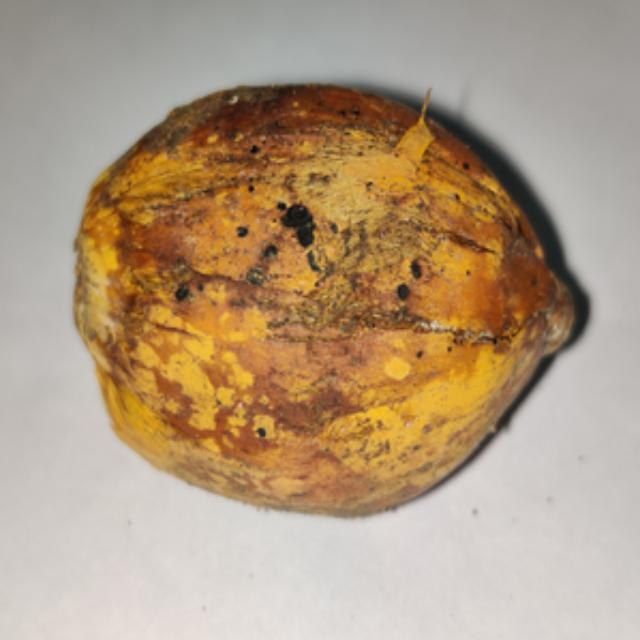damaged: (71, 83, 591, 520)
